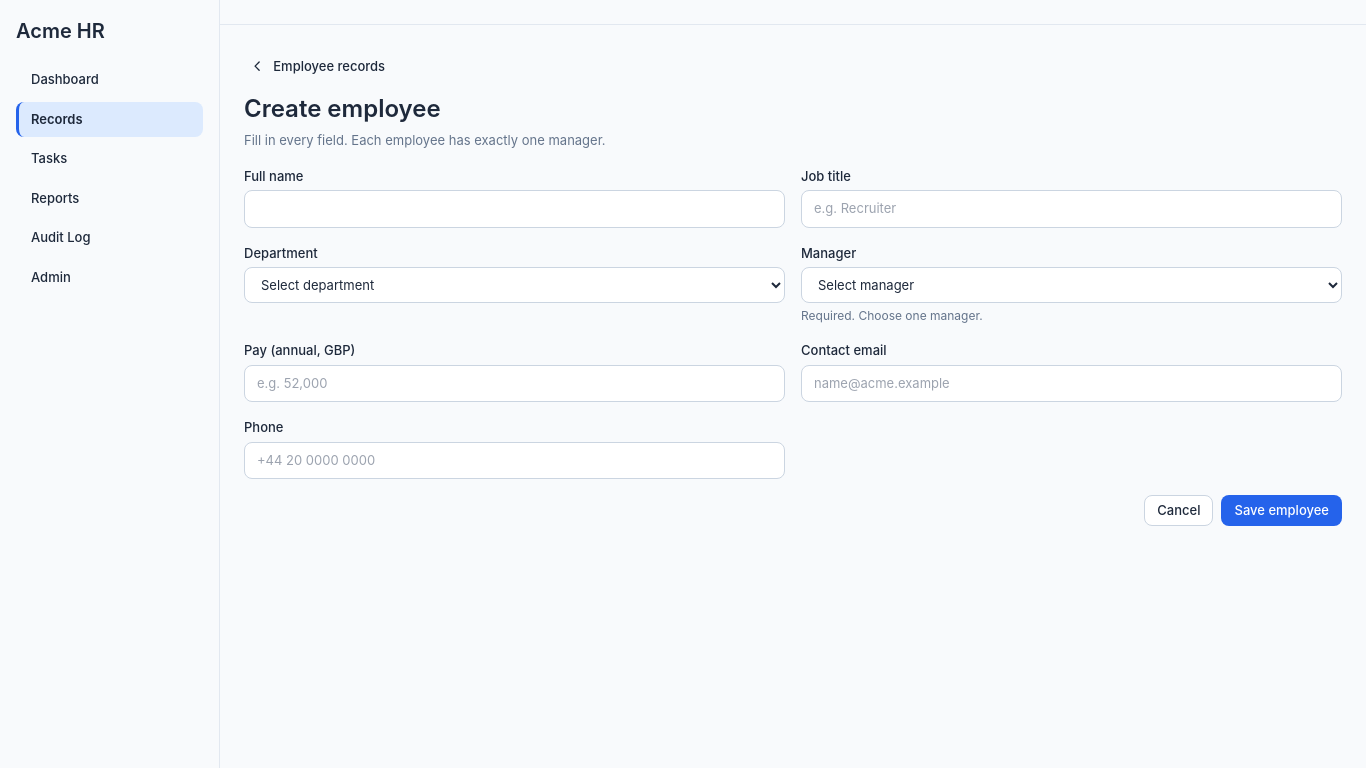
Test: EmployeeCreatePage › does not save without a manager and marks the field required (AC4)
The width and height of the screenshot is (1366, 768).
In the field labelled "Full name": (514, 209) [244, 190, 785, 228], type "Priya Shah"
In the field labelled "Job title": (1072, 209) [801, 190, 1342, 228], type "Recruiter"
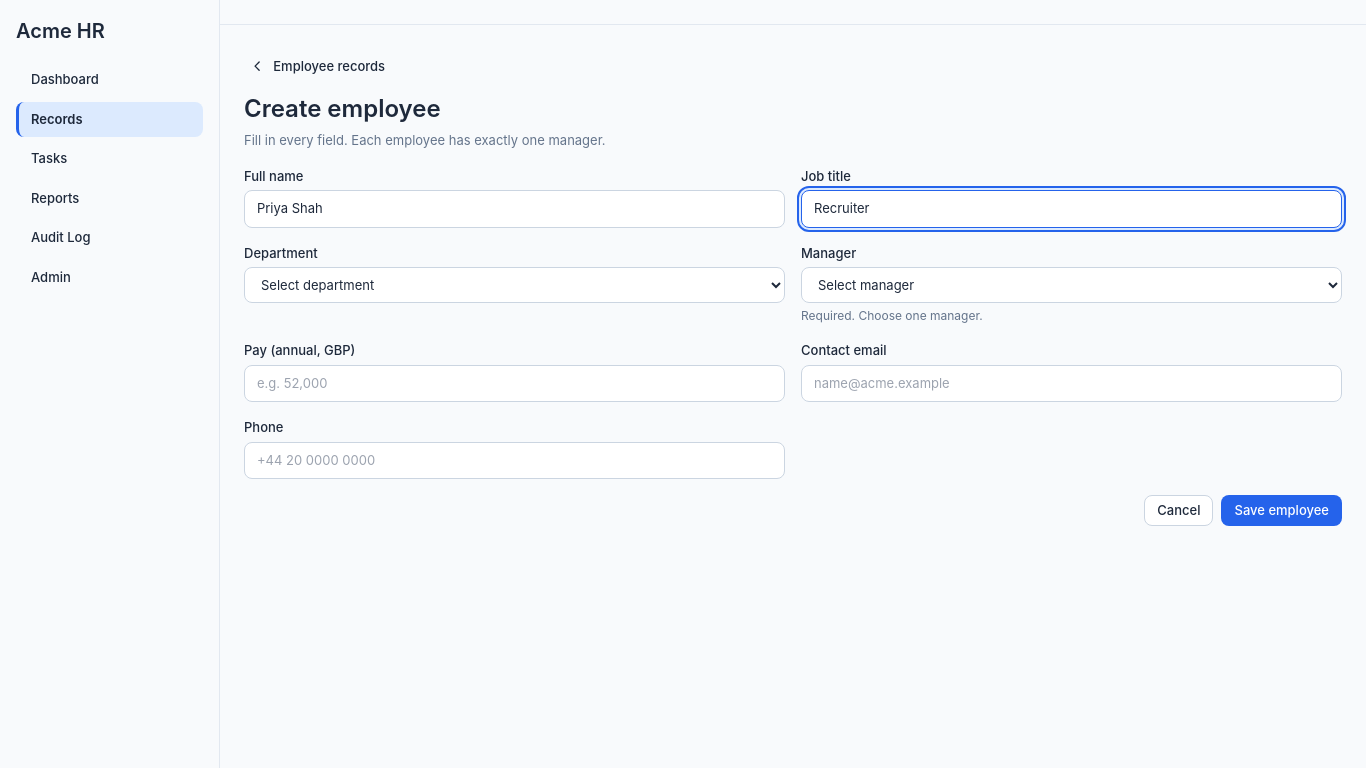
Select "People" in the dropdown labelled "Department": (514, 285) [244, 267, 785, 303]
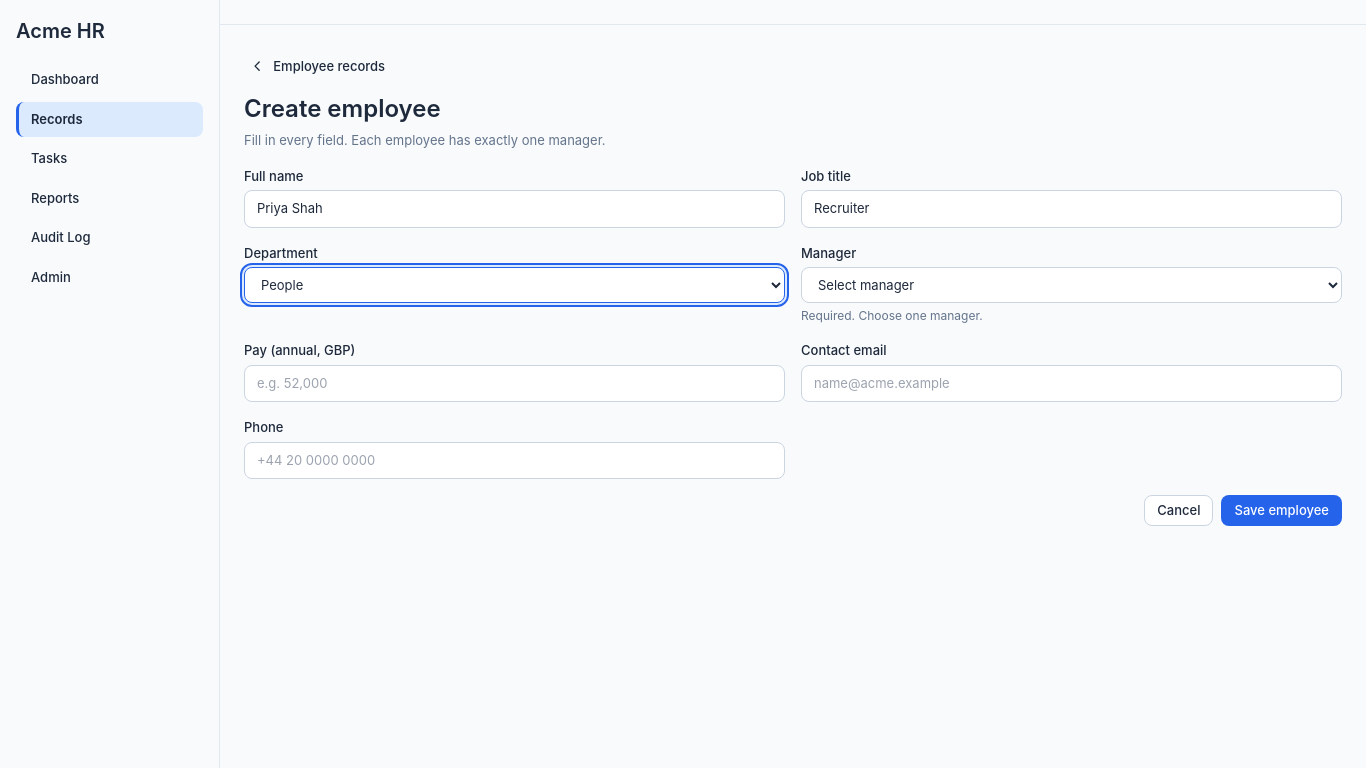
In the field labelled "Pay (annual, GBP)": (514, 384) [244, 365, 785, 402], type "52,000"
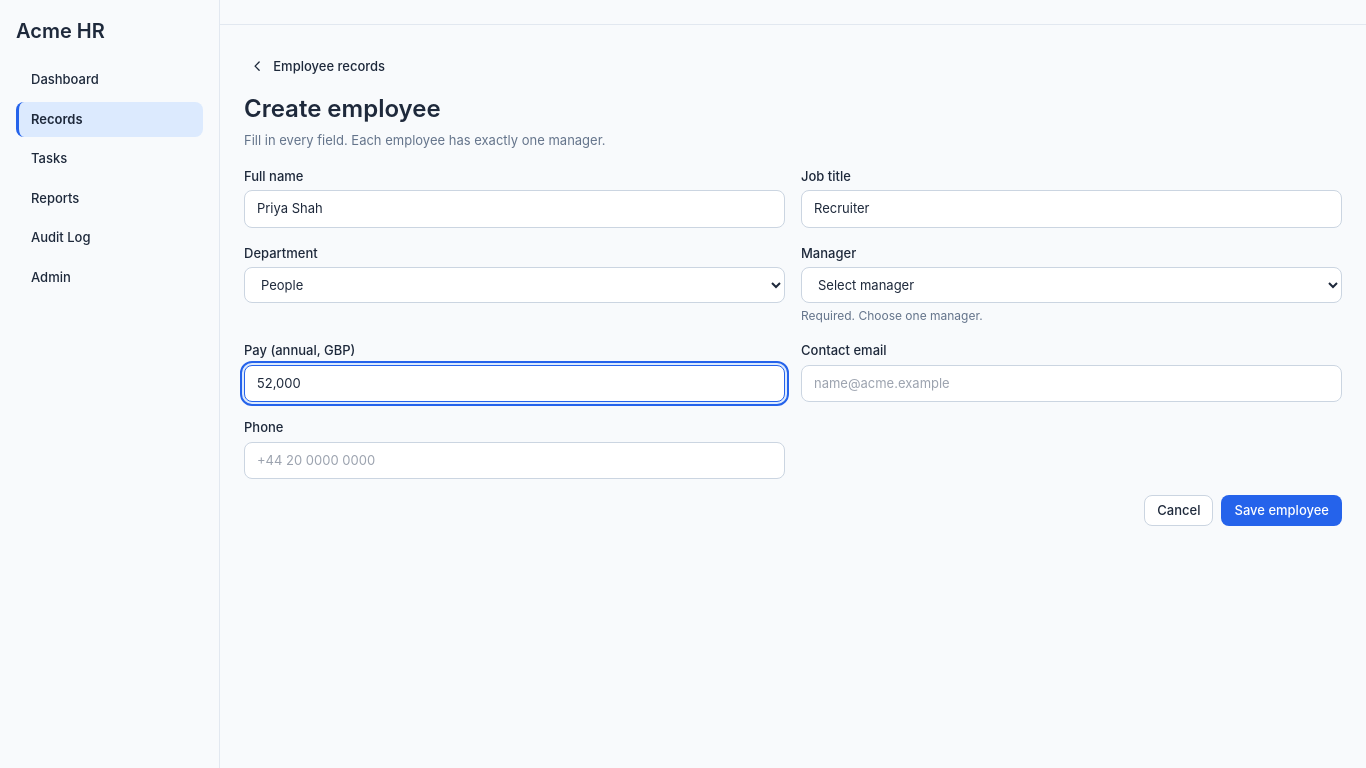
In the field labelled "Contact email": (1072, 384) [801, 365, 1342, 402], type "priya.shah.people@acme.example"
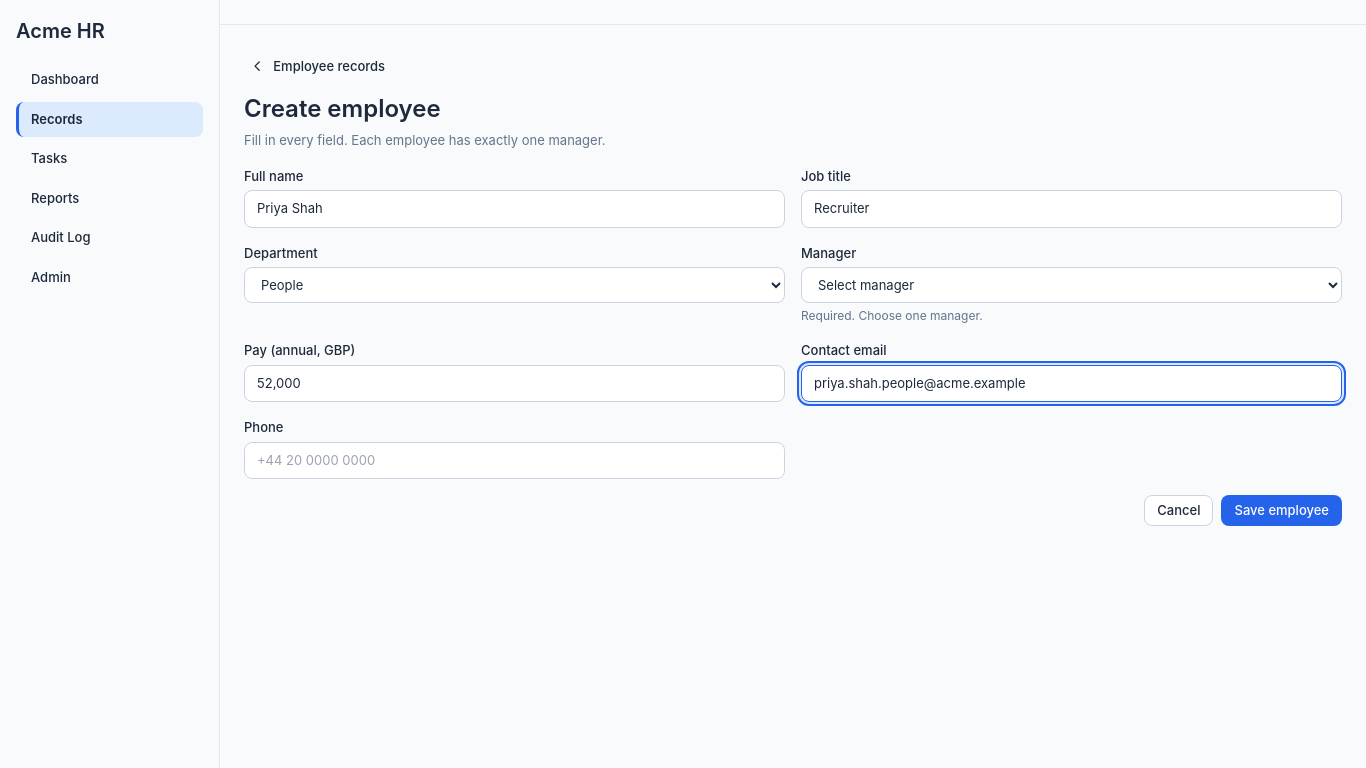
In the field labelled "Phone": (514, 461) [244, 442, 785, 479], type "+44 20 7946 0188"
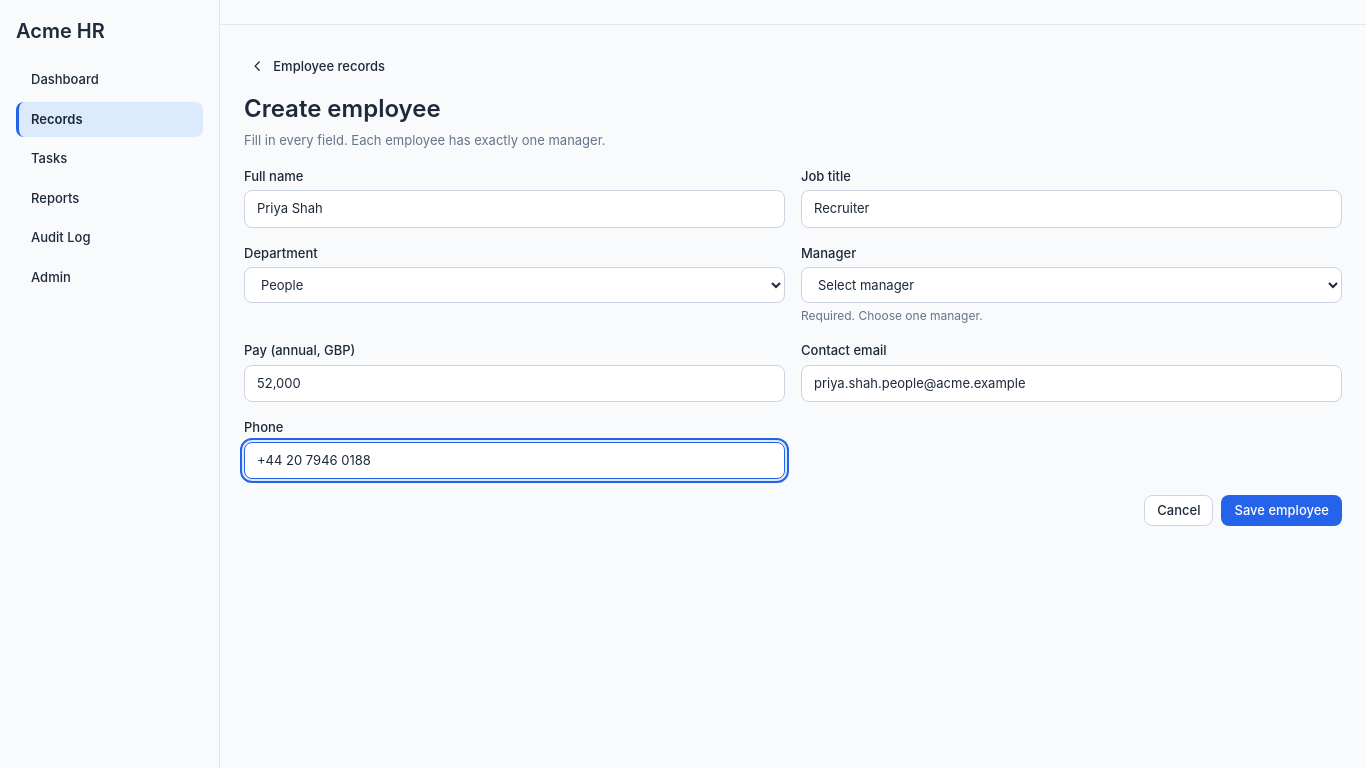
Click the button "Save employee": (1282, 511) [1222, 495, 1342, 526]
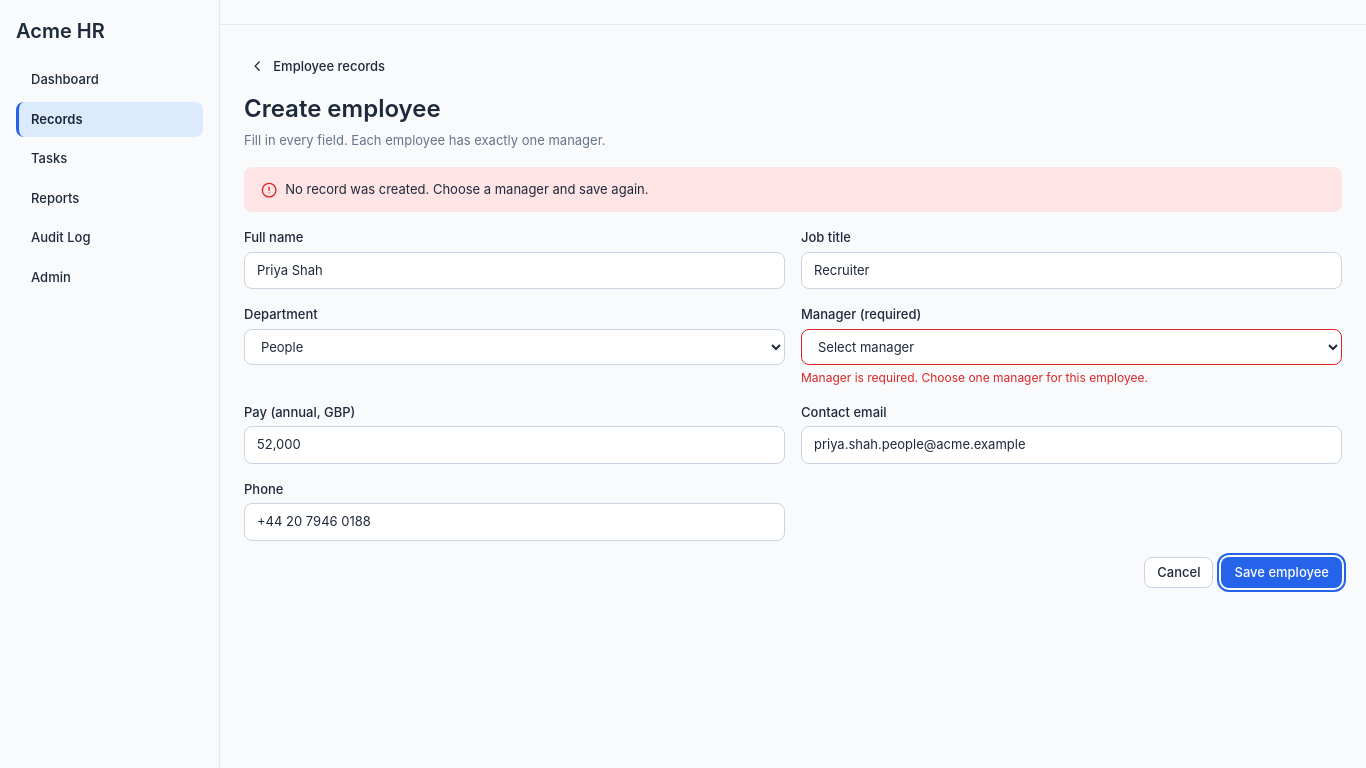
Expected: the text "Manager is required. Choose one manager for this employee." is shown, [801, 370, 1148, 385]
Expected: the text "No record was created. Choose a manager and save again." is shown, [285, 180, 649, 199]
